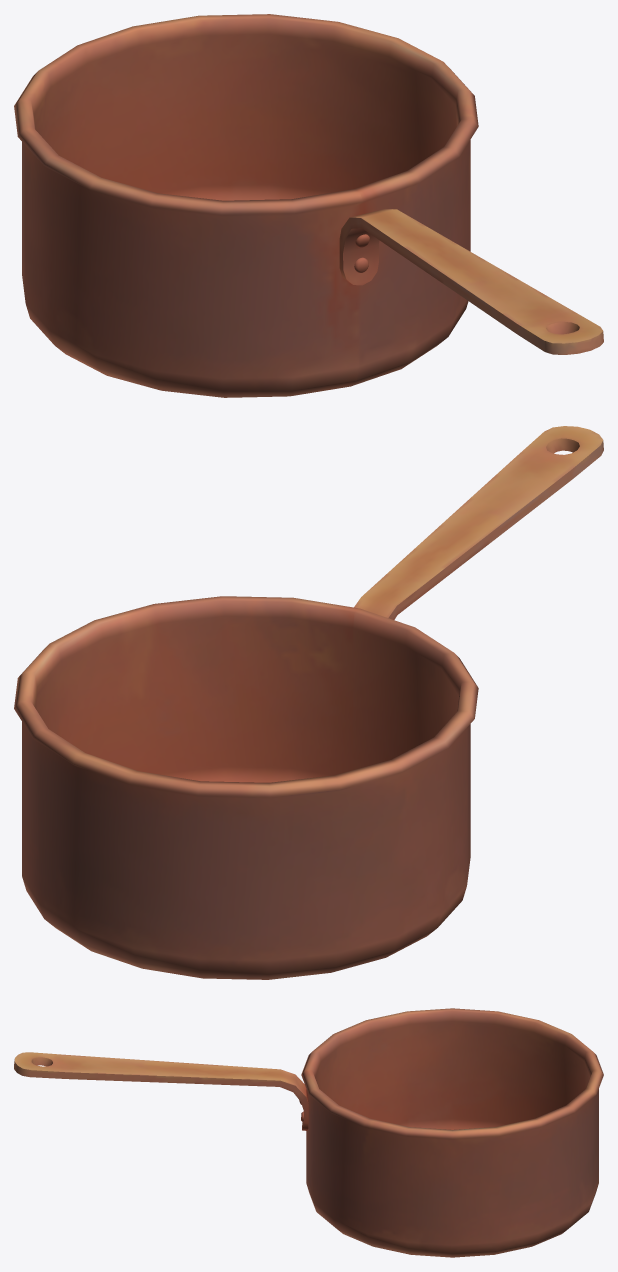
File: SM_SaucePan_Copper_02.fbx
3 renders of one model, top to bottom at view 1: azimuth 30°, elevation 25°; view 2: azimuth 150°, elevation 25°; view 3: azimuth 270°, elevation 25°, orthographic. The views are drawn at different scales.
Parts seen in each view (by area): view 1: SM_SaucePan_Copper_02_LOD0; view 2: SM_SaucePan_Copper_02_LOD0; view 3: SM_SaucePan_Copper_02_LOD0.
Part boxes in pixels (box(x1,y1,x2,y2)): SM_SaucePan_Copper_02_LOD0: box(14, 14, 603, 397); SM_SaucePan_Copper_02_LOD0: box(14, 426, 603, 979); SM_SaucePan_Copper_02_LOD0: box(14, 1008, 603, 1257).
Bounding box in the file's own units: 21.32 × 41.56 × 11.12.
1 material, 1 textured.
